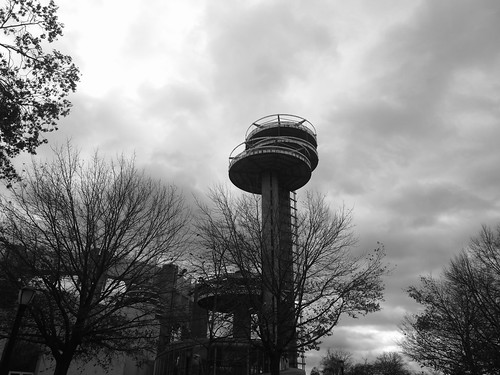building: (226, 108, 324, 367)
sky: (77, 1, 495, 232)
tree: (1, 162, 192, 375), (196, 191, 363, 375), (1, 1, 92, 163), (400, 228, 500, 375)
